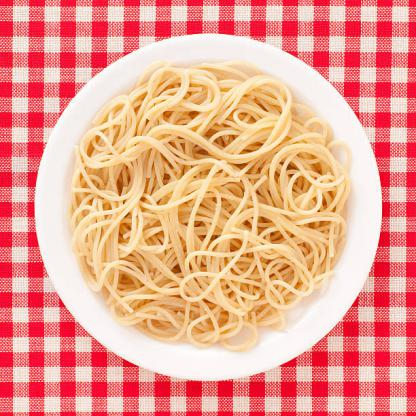Noodles: (69, 60, 352, 354)
